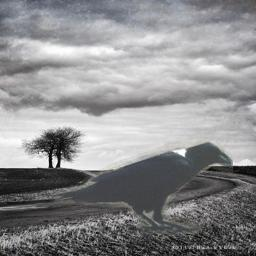Crow: (50, 140, 233, 234)
